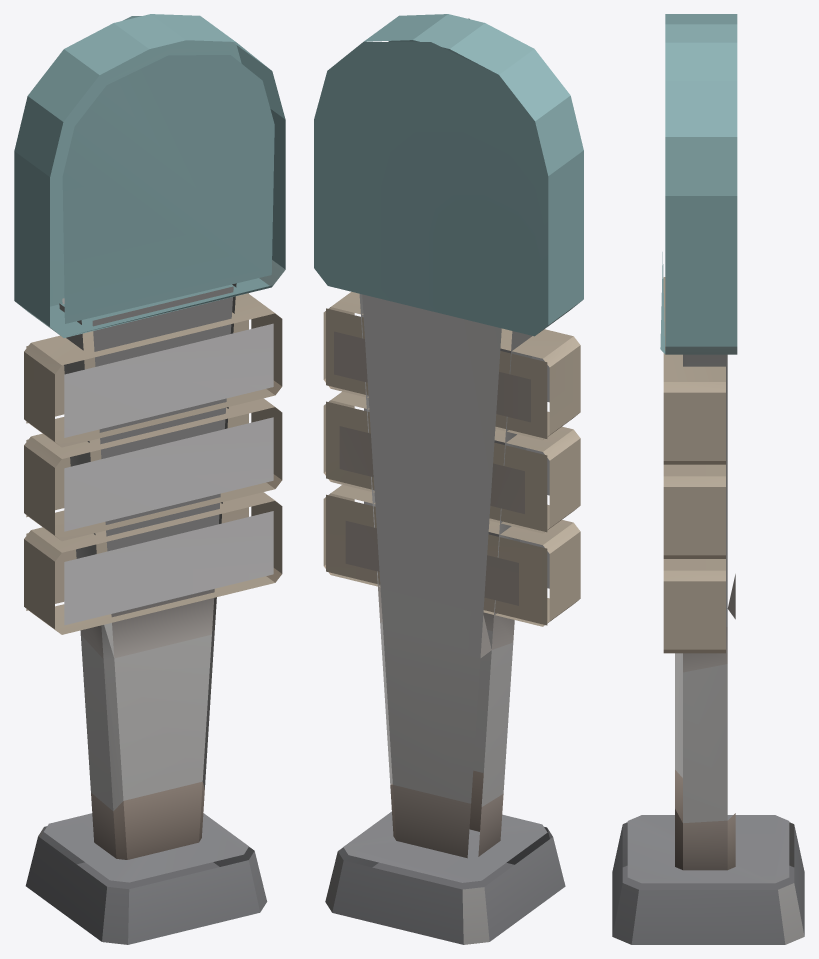
File: pylon.lod.glb
The picture shows the model from 3 angles, left to right: view 1: azimuth 30°, elevation 25°; view 2: azimuth 150°, elevation 25°; view 3: azimuth 270°, elevation 25°; orthographic projection.
Visible parts, largest first — view 1: pylon; view 2: pylon; view 3: pylon.
Boxes of the visible parts, x1=… form: pylon: x1=14, y1=14, x2=285, y2=944; pylon: x1=314, y1=14, x2=583, y2=944; pylon: x1=612, y1=14, x2=804, y2=944.
Bounding box in the file's own units: 1.71 × 6.02 × 1.2.
